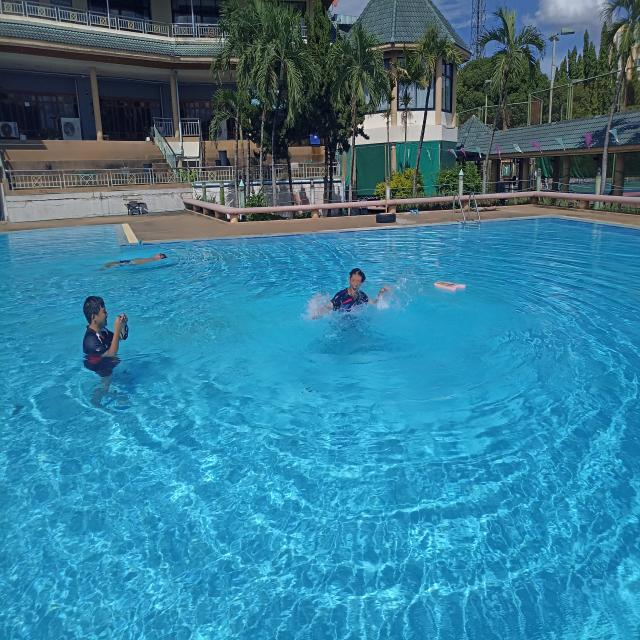Swimming: (302, 266, 400, 328), (75, 292, 126, 378), (96, 248, 170, 275)
